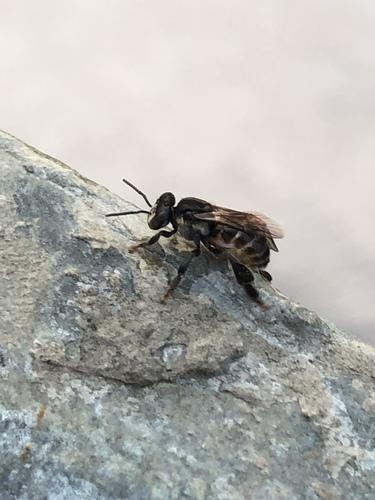Meliponula: (94, 165, 299, 319)
